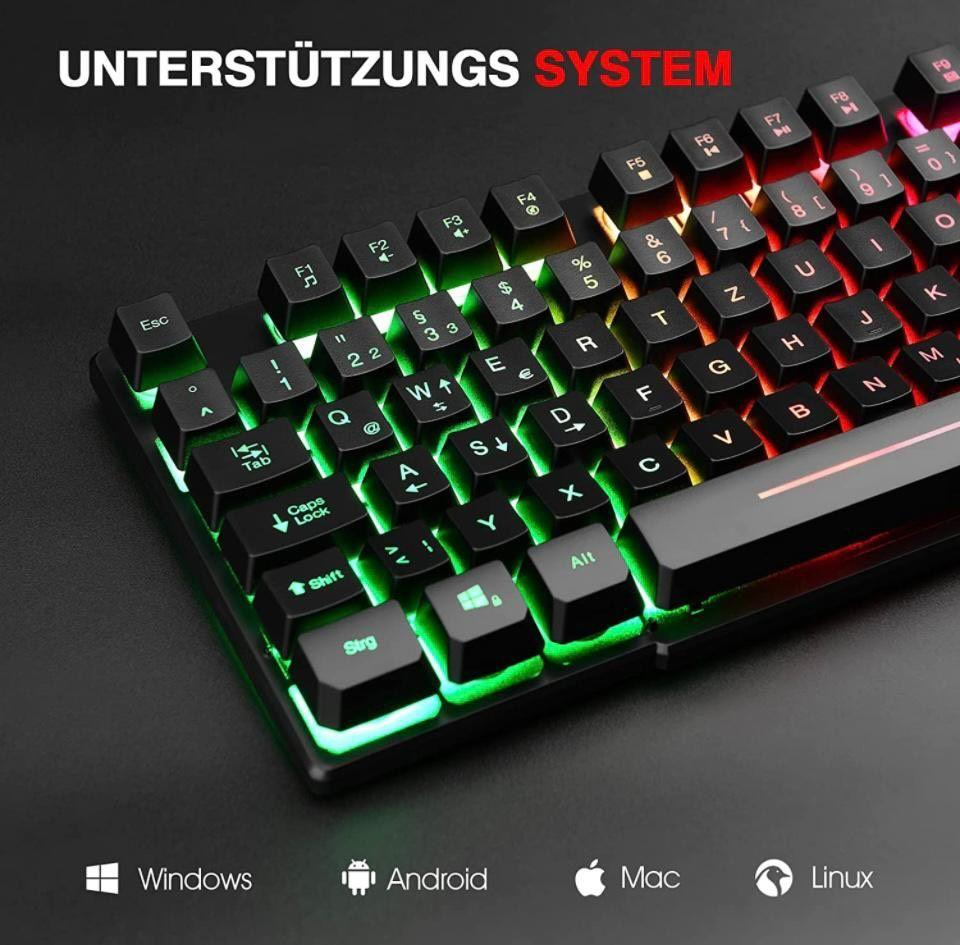0: (896, 123, 957, 182)
1: (240, 339, 317, 404)
2: (318, 311, 395, 378)
3: (394, 285, 473, 353)
4: (472, 261, 548, 325)
5: (546, 238, 622, 302)
6: (619, 212, 695, 276)
7: (692, 187, 767, 252)
8: (763, 164, 837, 227)
9: (830, 143, 904, 205)
a: (369, 442, 451, 505)
alt-left: (526, 520, 632, 603)
b: (748, 379, 841, 435)
c: (599, 434, 691, 492)
caret: (158, 365, 238, 431)
d: (522, 388, 610, 447)
e: (465, 334, 552, 398)
f: (600, 361, 686, 420)
g: (672, 335, 760, 395)
h: (748, 308, 832, 367)
i: (830, 212, 913, 267)
j: (818, 285, 905, 344)
k: (893, 261, 958, 316)
keyboard: (77, 31, 959, 817)
less: (362, 517, 452, 580)
m: (897, 326, 959, 383)
n: (825, 354, 913, 407)
o: (902, 190, 960, 247)
q: (308, 387, 397, 455)
r: (543, 310, 627, 370)
s: (441, 412, 531, 476)
shift-left: (259, 542, 366, 618)
shift-lock: (220, 466, 366, 558)
space: (636, 383, 954, 576)
strg-left: (293, 597, 426, 693)
t: (618, 285, 700, 343)
tab: (187, 414, 314, 496)
u: (763, 236, 843, 293)
v: (677, 406, 766, 461)
w: (391, 364, 473, 423)
x: (527, 462, 610, 518)
y: (443, 489, 530, 550)
z: (689, 259, 773, 318)
